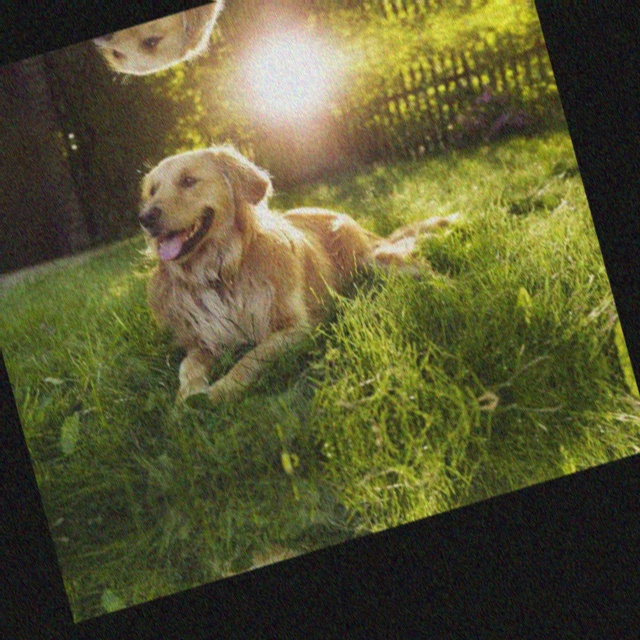dog: (110, 91, 416, 431), (213, 474, 456, 578), (78, 0, 328, 100)
